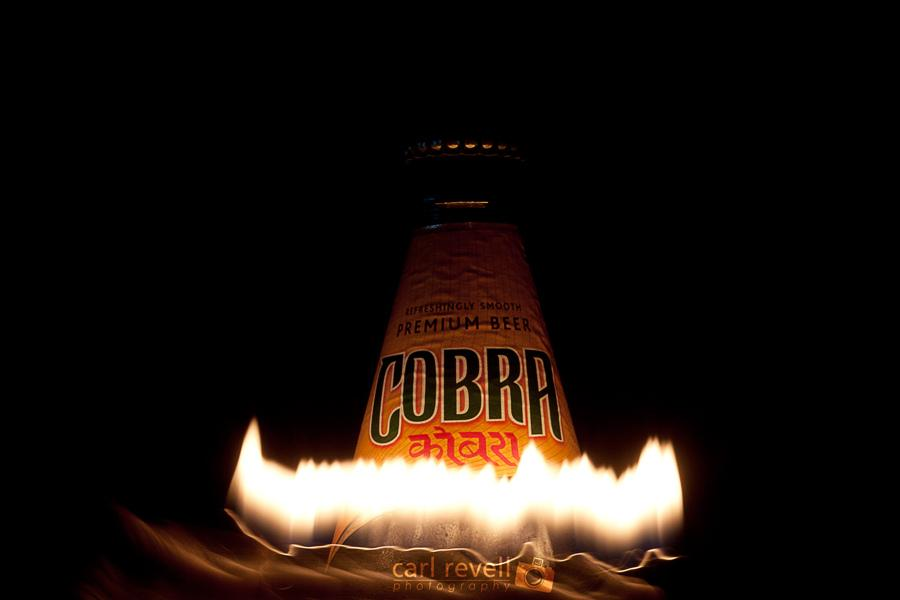fire: (236, 467, 681, 551)
